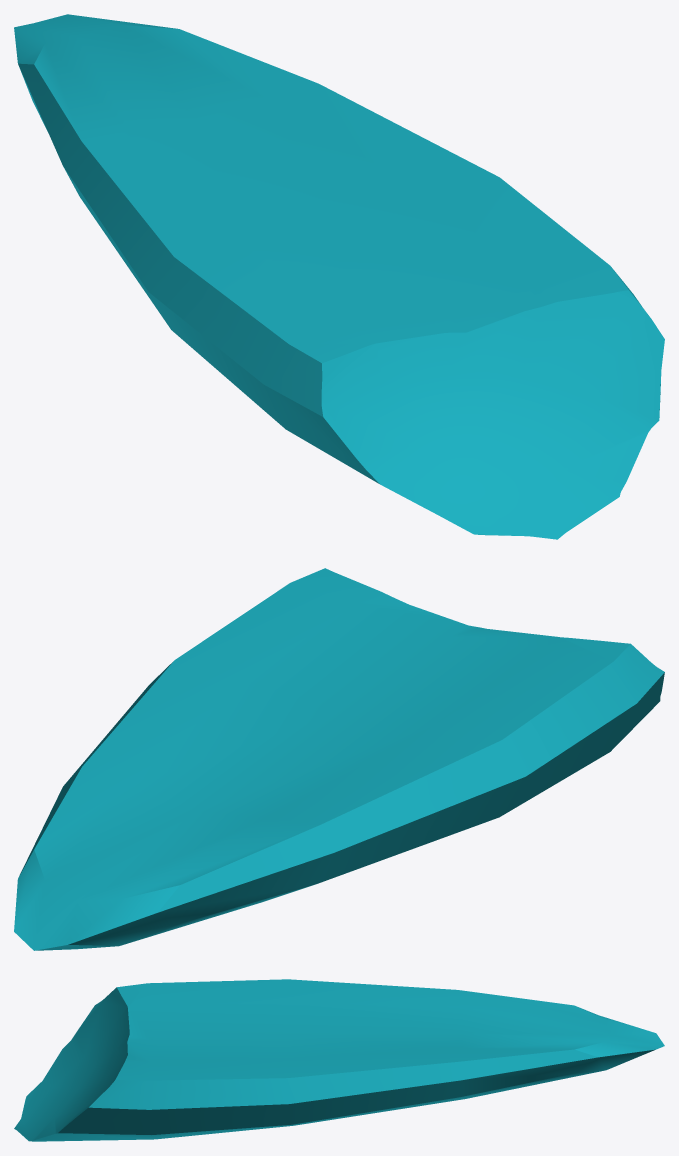
File: agave-foglia.glb
3 renders of one model, top to bottom at view 1: azimuth 30°, elevation 25°; view 2: azimuth 150°, elevation 25°; view 3: azimuth 270°, elevation 25°, orthographic. The views are drawn at different scales.
Parts seen in each view (by area): view 1: foglia-agave-01; view 2: foglia-agave-01; view 3: foglia-agave-01.
Part boxes in pixels (x1=…): foglia-agave-01: x1=14, y1=14, x2=664, y2=539; foglia-agave-01: x1=14, y1=568, x2=664, y2=950; foglia-agave-01: x1=14, y1=979, x2=664, y2=1141.
Size of the model in its own units: 0.2386 by 0.1008 by 0.5776.
